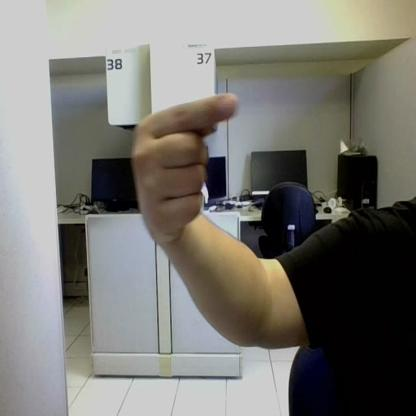G: (133, 93, 235, 240)
